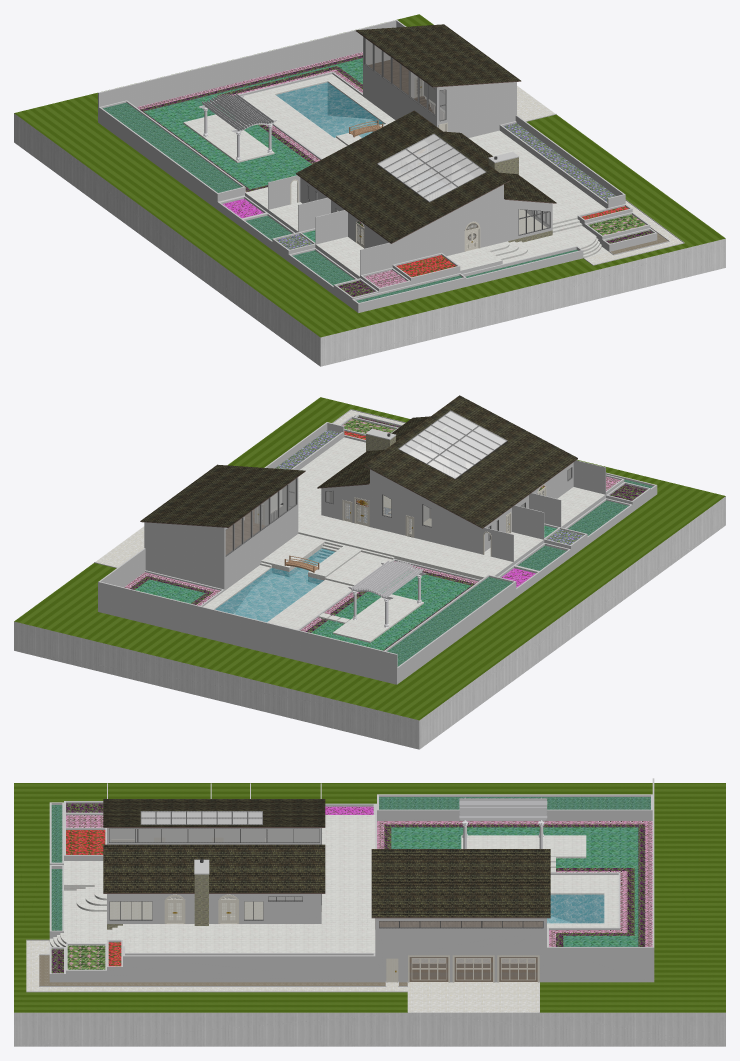
3 views of the same model, one above another, from view 1: azimuth 30°, elevation 25°; view 2: azimuth 150°, elevation 25°; view 3: azimuth 270°, elevation 25° (orthographic). The views are drawn at different scales.
Parts seen in each view (by area): view 1: Texture_Stucco36, suc-grass-009, Dried_Bamboo_1, Roofing_Shingles_Wood, Stone_Tile_Squares1, Vegetation_Variegated1, Vegetation_Ivy_Hedera, Glass_Clear01, Water_Pool_Light, Translucent_Glass_Gray, Vegetation_Pansies, Vegetation_Impatiens_Pink (+13 smaller); view 2: Texture_Stucco36, suc-grass-009, Dried_Bamboo_1, Stone_Tile_Squares1, Roofing_Shingles_Wood, Vegetation_Variegated1, Vegetation_Ivy_Hedera, Glass_Clear01, Water_Pool_Light, Translucent_Glass_Gray, Vegetation_Pansies, Metal_BrushedDark01a (+10 smaller); view 3: suc-grass-009, Texture_Stucco36, Roofing_Shingles_Wood, Dried_Bamboo_1, Stone_Tile_Squares1, ILCampo-SantaFe-I, Translucent_Glass_Gray, Vegetation_Variegated1, Vegetation_Ivy_Hedera, Vegetation_Pansies, Vegetation_Impatiens_Pink, H1424_ST22_02 (+16 smaller).
Part boxes in pixels (x1,y1,x2,y2): Texture_Stucco36: (98,20,684,312); suc-grass-009: (14,14,725,337); Dried_Bamboo_1: (14,113,725,366); Roofing_Shingles_Wood: (296,24,556,243); Stone_Tile_Squares1: (183,74,608,276); Vegetation_Variegated1: (144,58,362,242); Vegetation_Ivy_Hedera: (103,102,577,302); Glass_Clear01: (378,134,485,201); Water_Pool_Light: (276,82,383,137); Translucent_Glass_Gray: (308,38,549,244); Vegetation_Pansies: (140,55,653,297); Vegetation_Impatiens_Pink: (137,52,406,287); Texture_Stucco36: (94,409,657,684); suc-grass-009: (14,397,725,720); Dried_Bamboo_1: (14,496,725,749); Stone_Tile_Squares1: (203,437,604,642); Roofing_Shingles_Wood: (140,395,577,527); Vegetation_Variegated1: (135,525,556,650); Vegetation_Ivy_Hedera: (387,479,652,666); Glass_Clear01: (399,411,506,478); Water_Pool_Light: (215,548,334,622); Translucent_Glass_Gray: (225,468,571,555); Vegetation_Pansies: (130,416,646,650); Metal_BrushedDark01a: (398,410,507,479); suc-grass-009: (14,783,725,1012); Texture_Stucco36: (26,778,654,1012); Roofing_Shingles_Wood: (103,799,550,917); Dried_Bamboo_1: (14,1012,725,1046); Stone_Tile_Squares1: (49,815,618,952); ILCampo-SantaFe-I: (26,940,539,1012); Translucent_Glass_Gray: (109,829,542,962); Vegetation_Variegated1: (391,827,638,946); Vegetation_Ivy_Hedera: (51,797,650,930); Vegetation_Pansies: (51,803,645,973); Vegetation_Impatiens_Pink: (66,815,652,946); H1424_ST22_02: (111,837,539,982).
Bounding box in the file's own units: 46.33 × 11.21 × 60.66.
61 materials, 43 textured.
